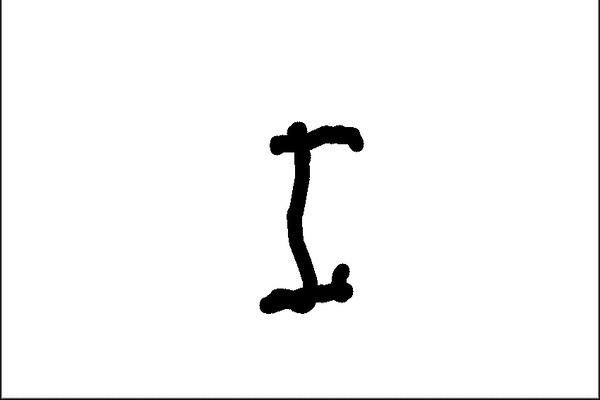i: (234, 111, 360, 310)
